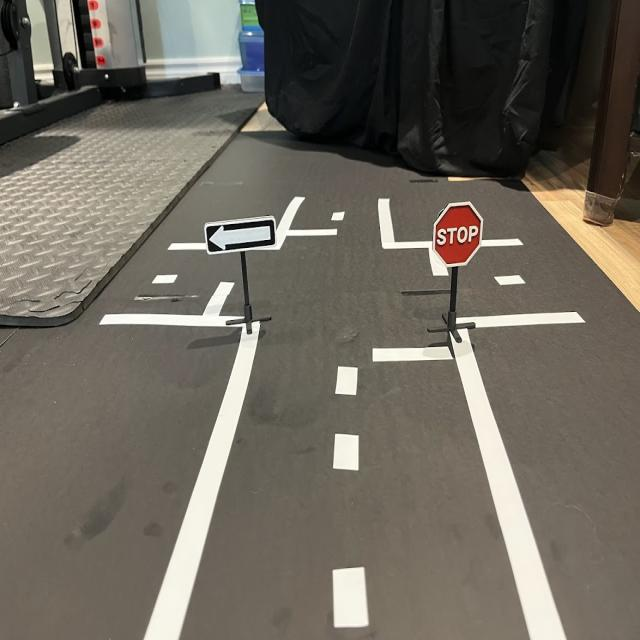sign_oneway_left: (205, 214, 280, 257)
sign_stop: (433, 204, 483, 266)
